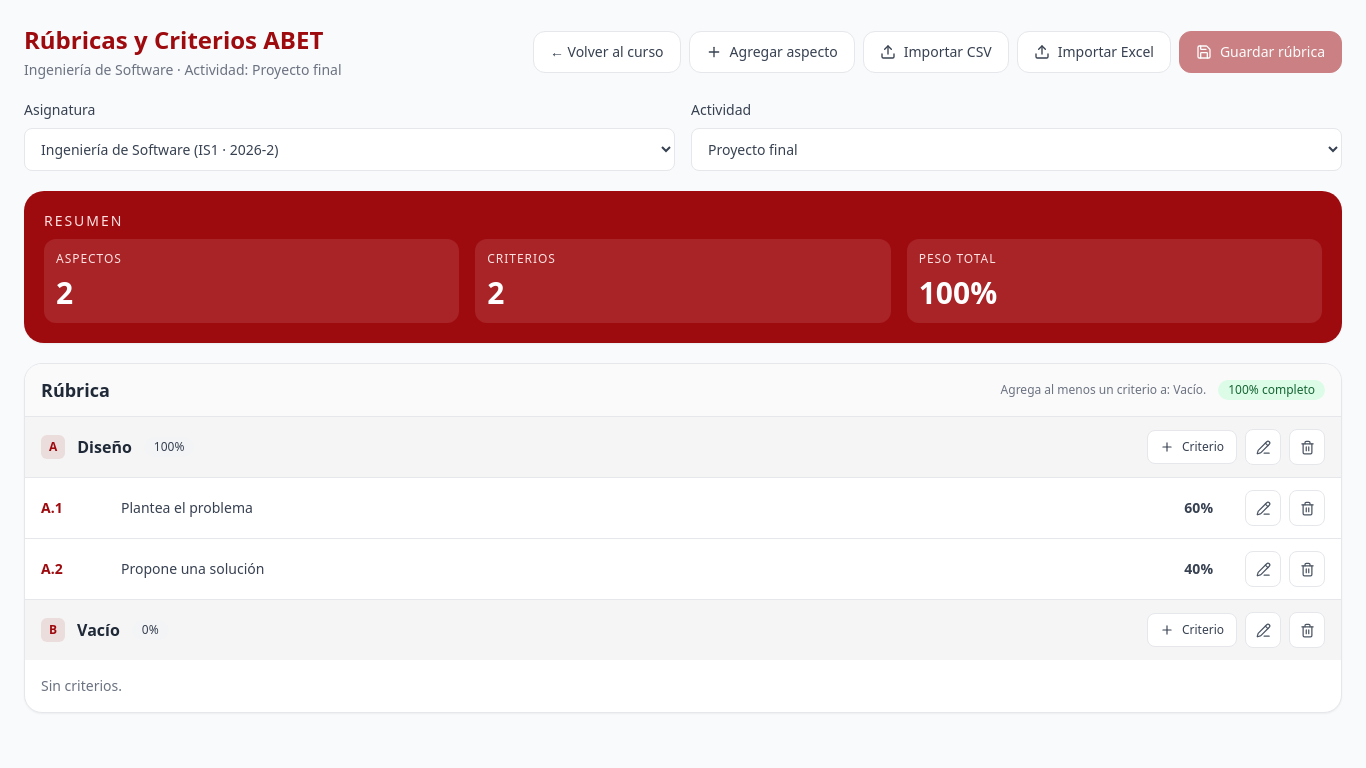
it: RubricaPage — descartar cambios sin guardar › con cambios, cambiar de actividad abre el modal: Cancelar no cambia nada y Descartar cambia de actividad
Click the button named "Eliminar Vacío" at (1307, 630), box [1289, 612, 1325, 648]
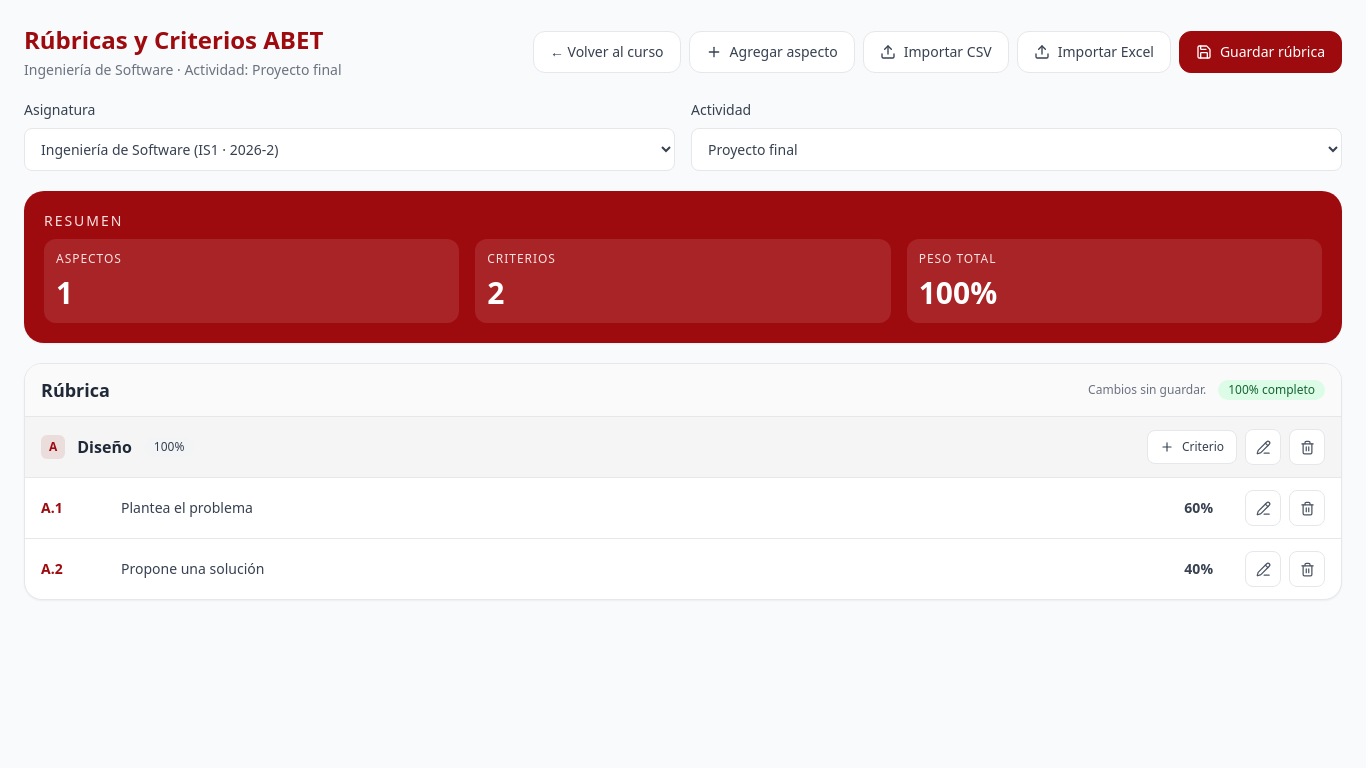
Select "Parcial" in the dropdown labelled "Actividad" at (1016, 150), box [691, 128, 1342, 171]
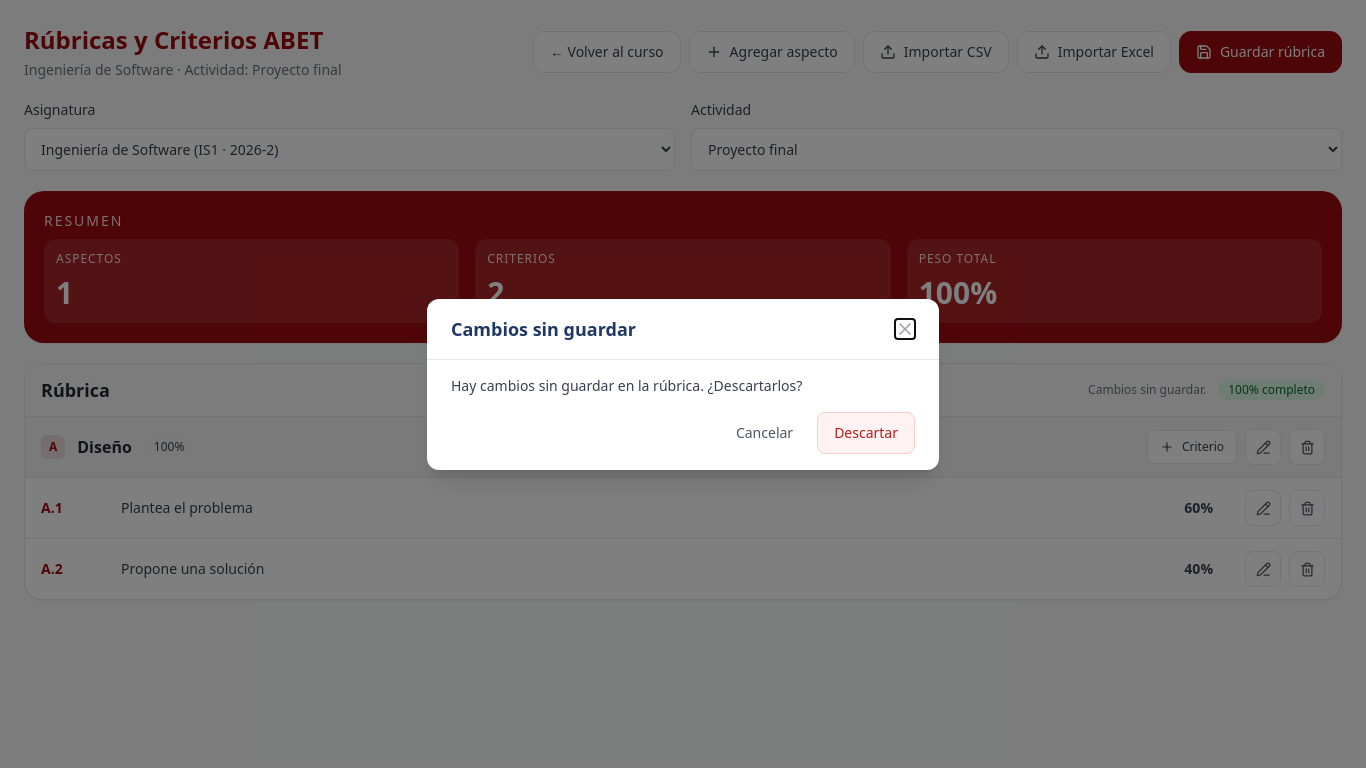
Now the dialog "Cambios sin guardar" is shown, box [427, 298, 939, 470]
Now the text "Hay cambios sin guardar en la rúbrica. ¿Descartarlos?" is shown, box [451, 376, 802, 394]
Click the button "Cancelar" at (764, 432), box [720, 412, 809, 454]
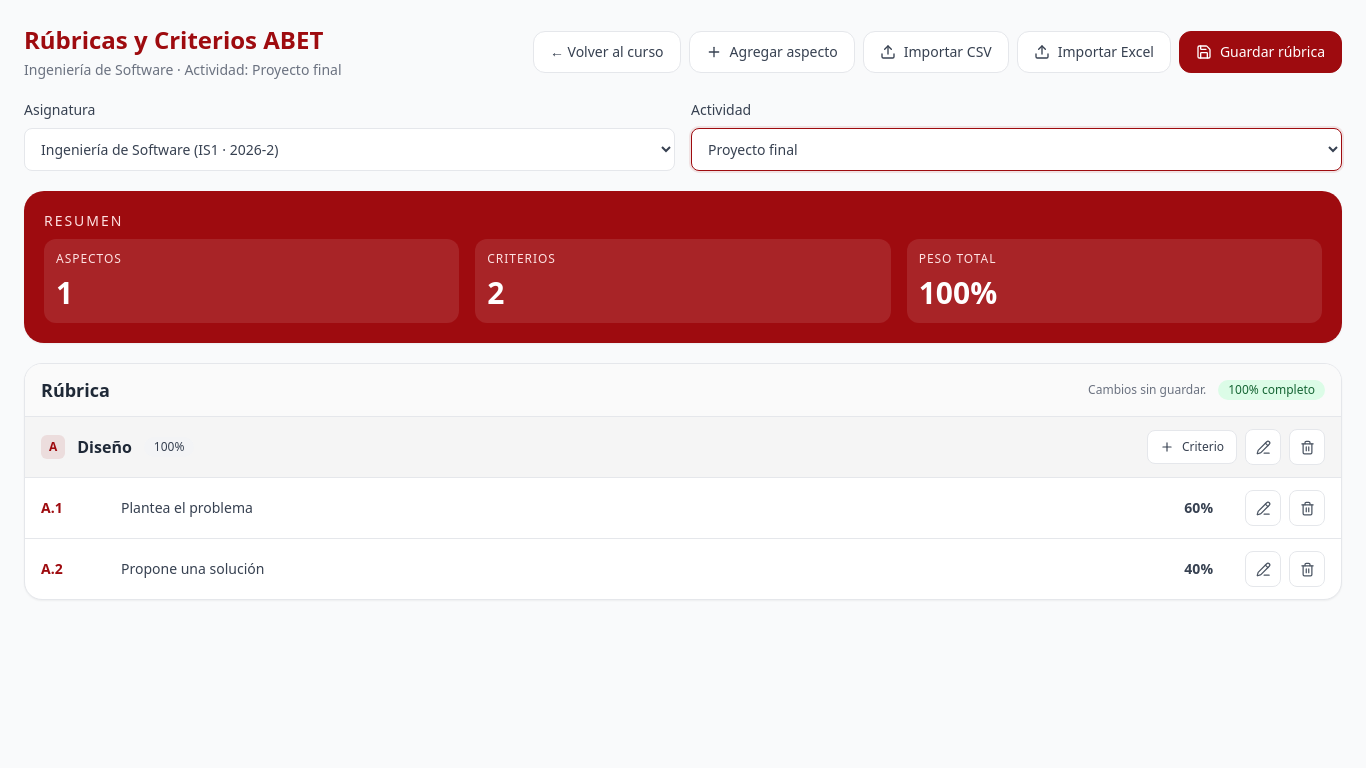
Now the dialog is gone
Select "Parcial" in the dropdown labelled "Actividad" at (1016, 150), box [691, 128, 1342, 171]
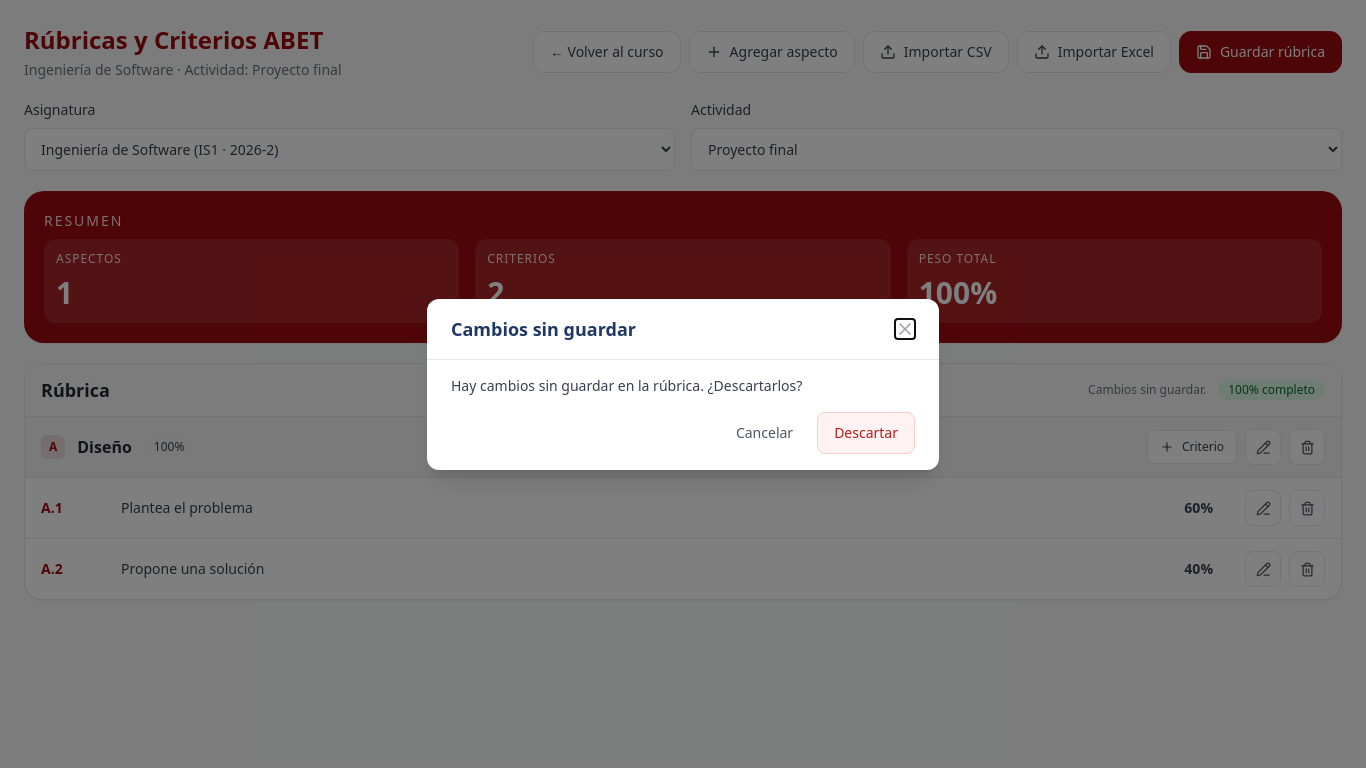
Click the button "Descartar" at (866, 432), box [817, 412, 915, 454]
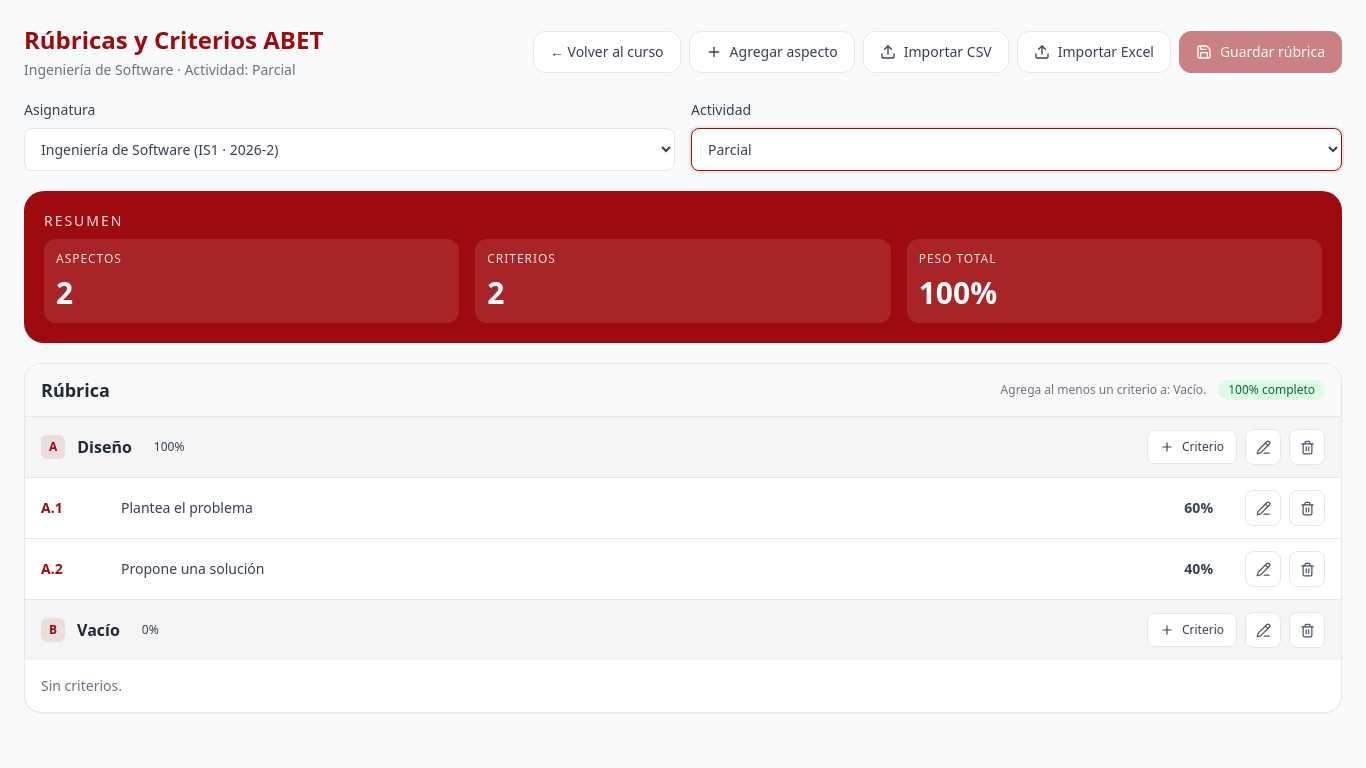
Now the dialog is gone
